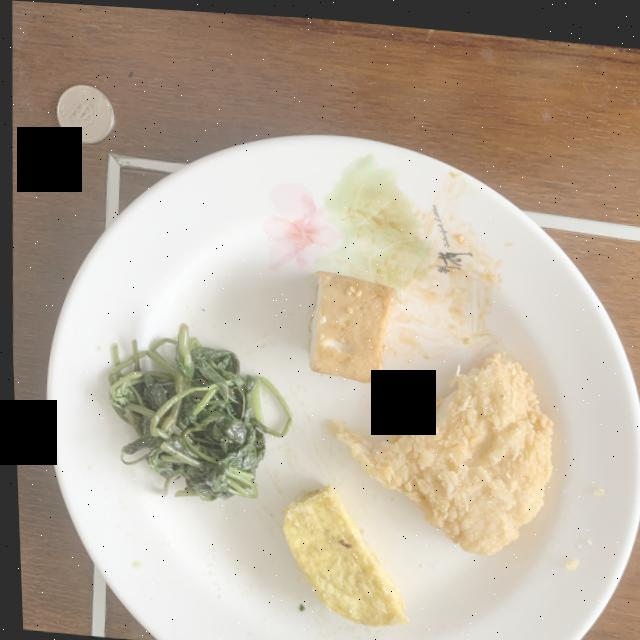coin: (55, 83, 112, 142)
creamy tofu: (305, 267, 392, 378)
fried chicken cutlet: (323, 346, 549, 549)
sweet potato leaves: (104, 322, 287, 498)
